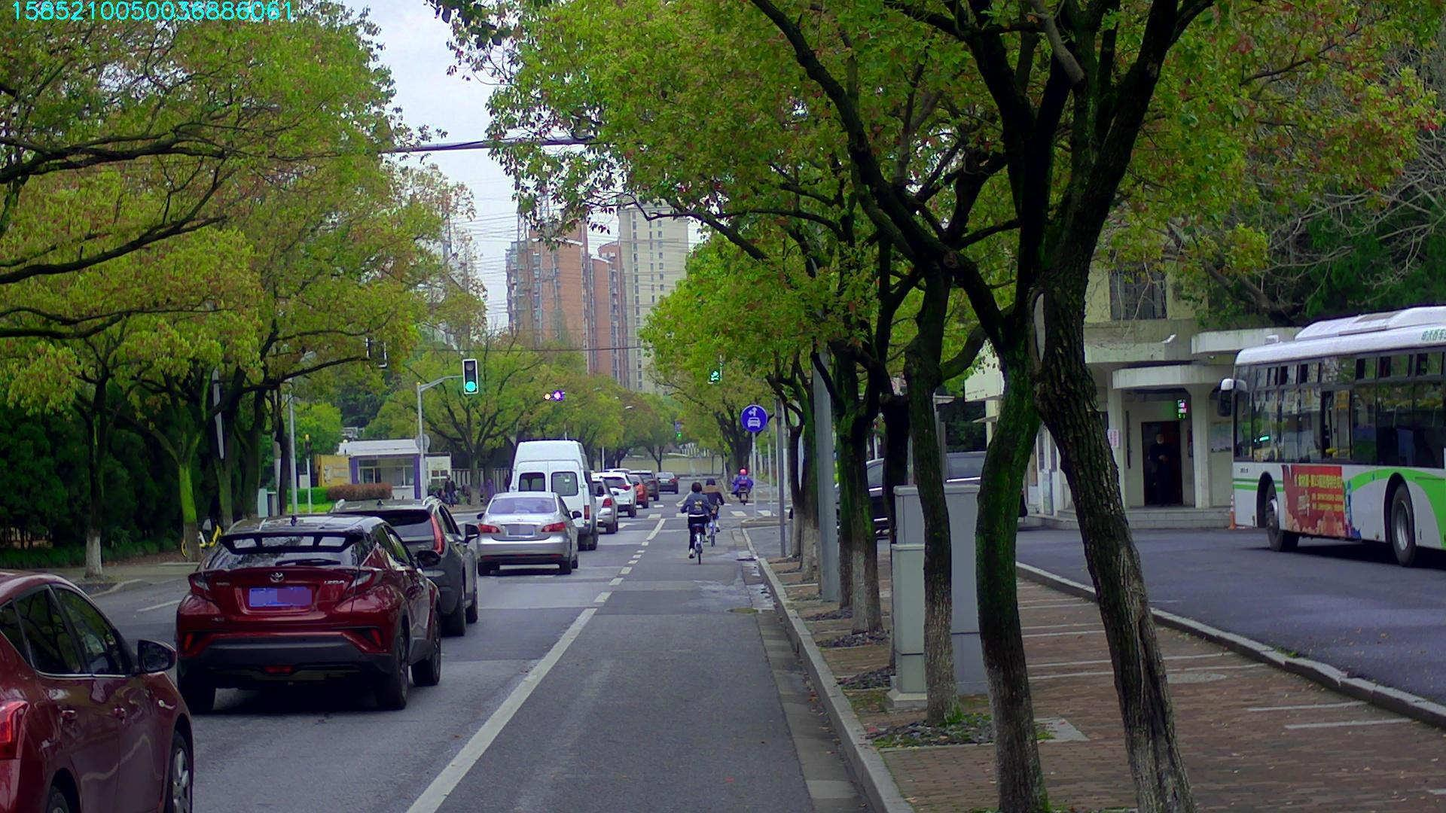green: (463, 359, 477, 392), (707, 349, 720, 382)
